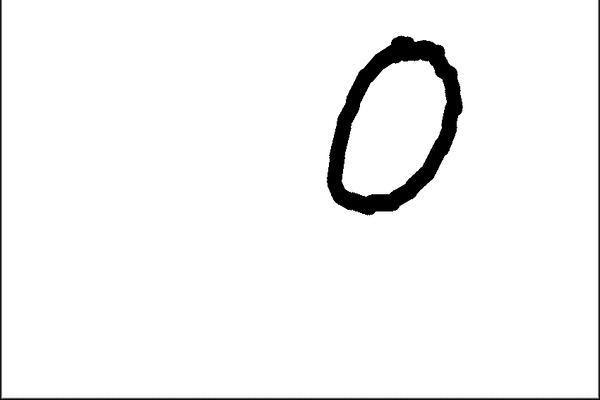O: (317, 25, 469, 224)
